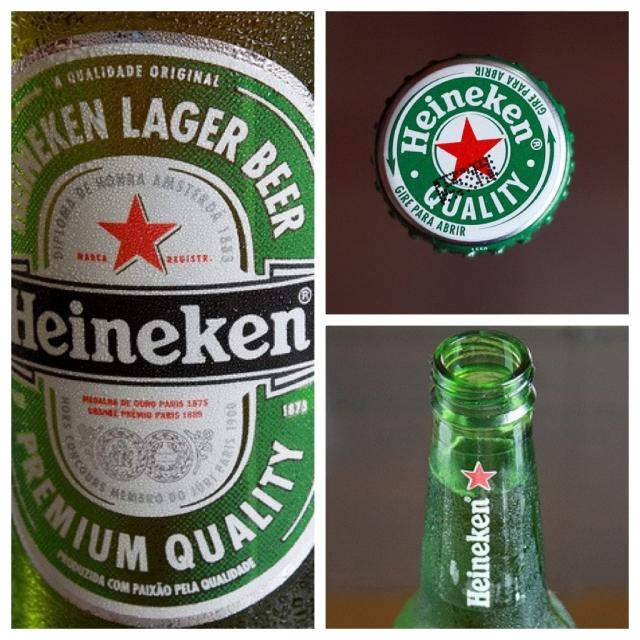heineken: (12, 32, 316, 630), (398, 77, 547, 225), (458, 453, 503, 615)
